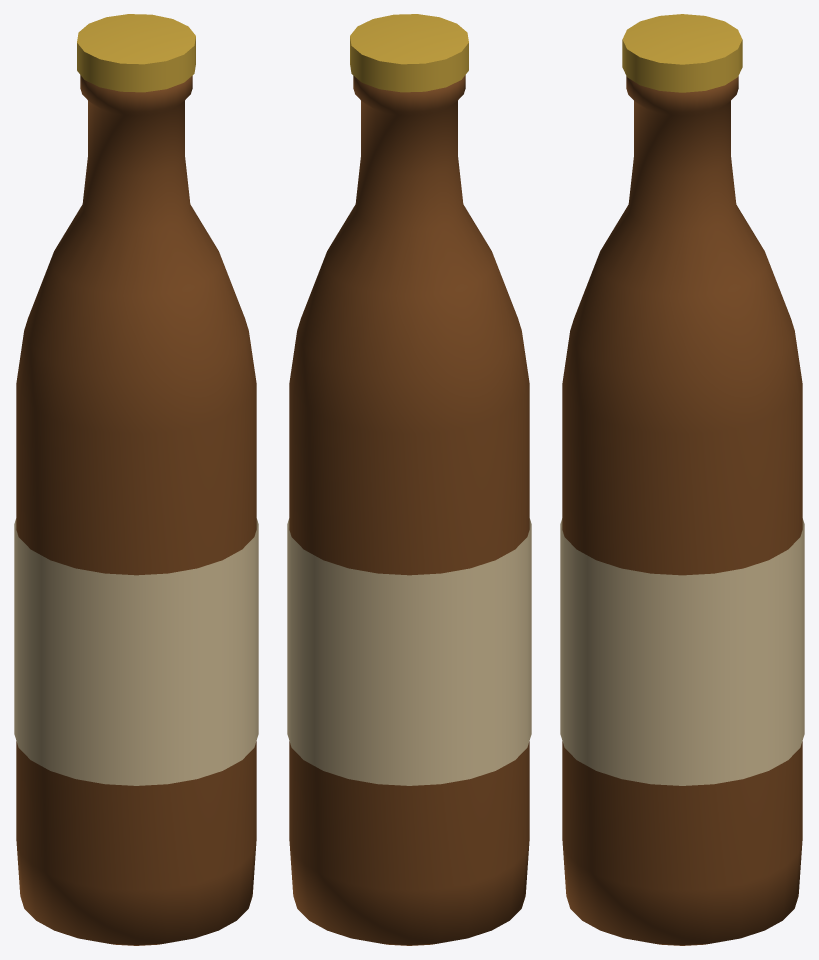
The model's file is item_beer_brown.fbx.
The picture shows the model from 3 angles, left to right: view 1: azimuth 30°, elevation 25°; view 2: azimuth 150°, elevation 25°; view 3: azimuth 270°, elevation 25°; orthographic projection.
Visible parts, largest first — view 1: item_beer_brown; view 2: item_beer_brown; view 3: item_beer_brown.
Part boxes in pixels (x1=…): item_beer_brown: x1=14, y1=14, x2=258, y2=945; item_beer_brown: x1=287, y1=14, x2=531, y2=945; item_beer_brown: x1=560, y1=14, x2=804, y2=945.
Bounding box in the file's own units: 0.063 × 0.249 × 0.063.
